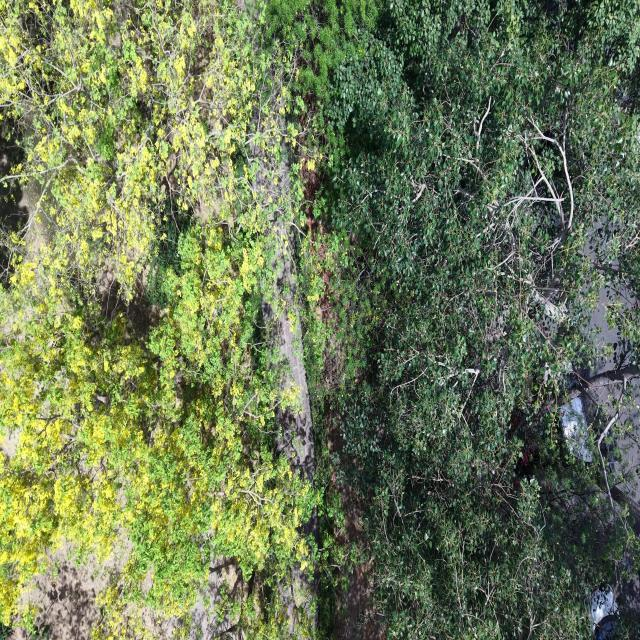VEGETATION_TREE: (0, 0, 639, 639), (307, 2, 638, 637), (0, 2, 317, 637)
